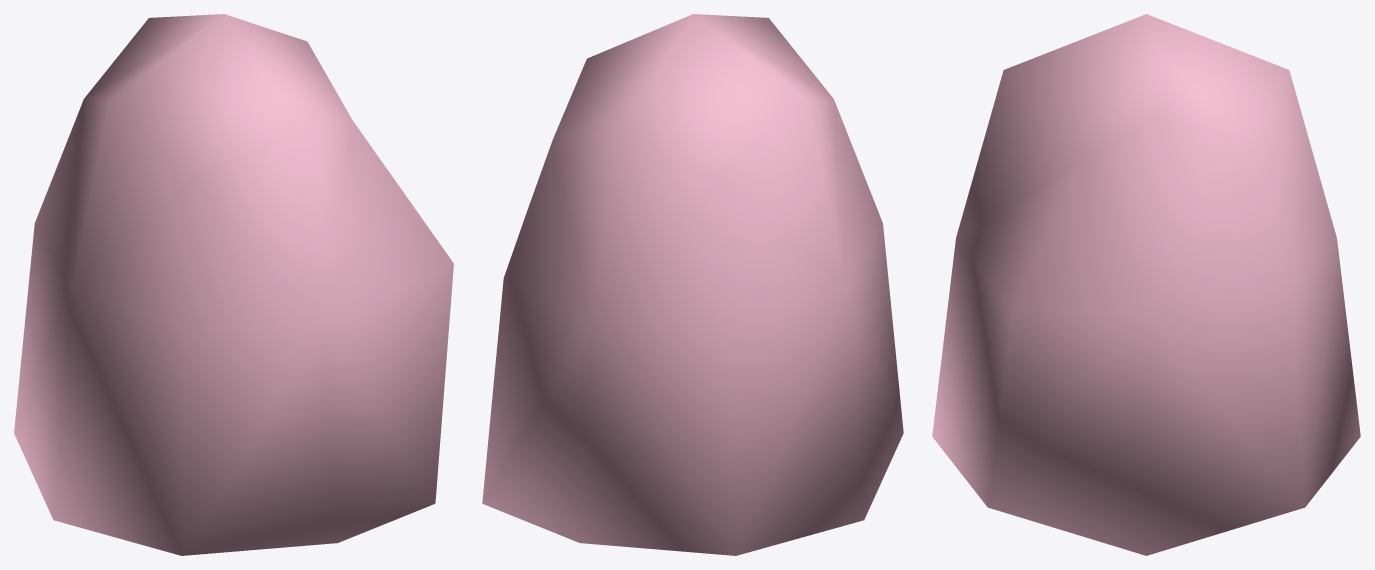
The picture shows the model from 3 angles, left to right: view 1: azimuth 30°, elevation 25°; view 2: azimuth 150°, elevation 25°; view 3: azimuth 270°, elevation 25°; orthographic projection. The views are drawn at different scales.
Parts seen in each view (by area): view 1: Object28; view 2: Object28; view 3: Object28.
Part boxes in pixels (box(x1,y1,x2,y2)): Object28: box(14, 14, 453, 555); Object28: box(482, 14, 903, 555); Object28: box(932, 14, 1360, 555).
Size of the model in its own units: 151 by 186 by 158.
